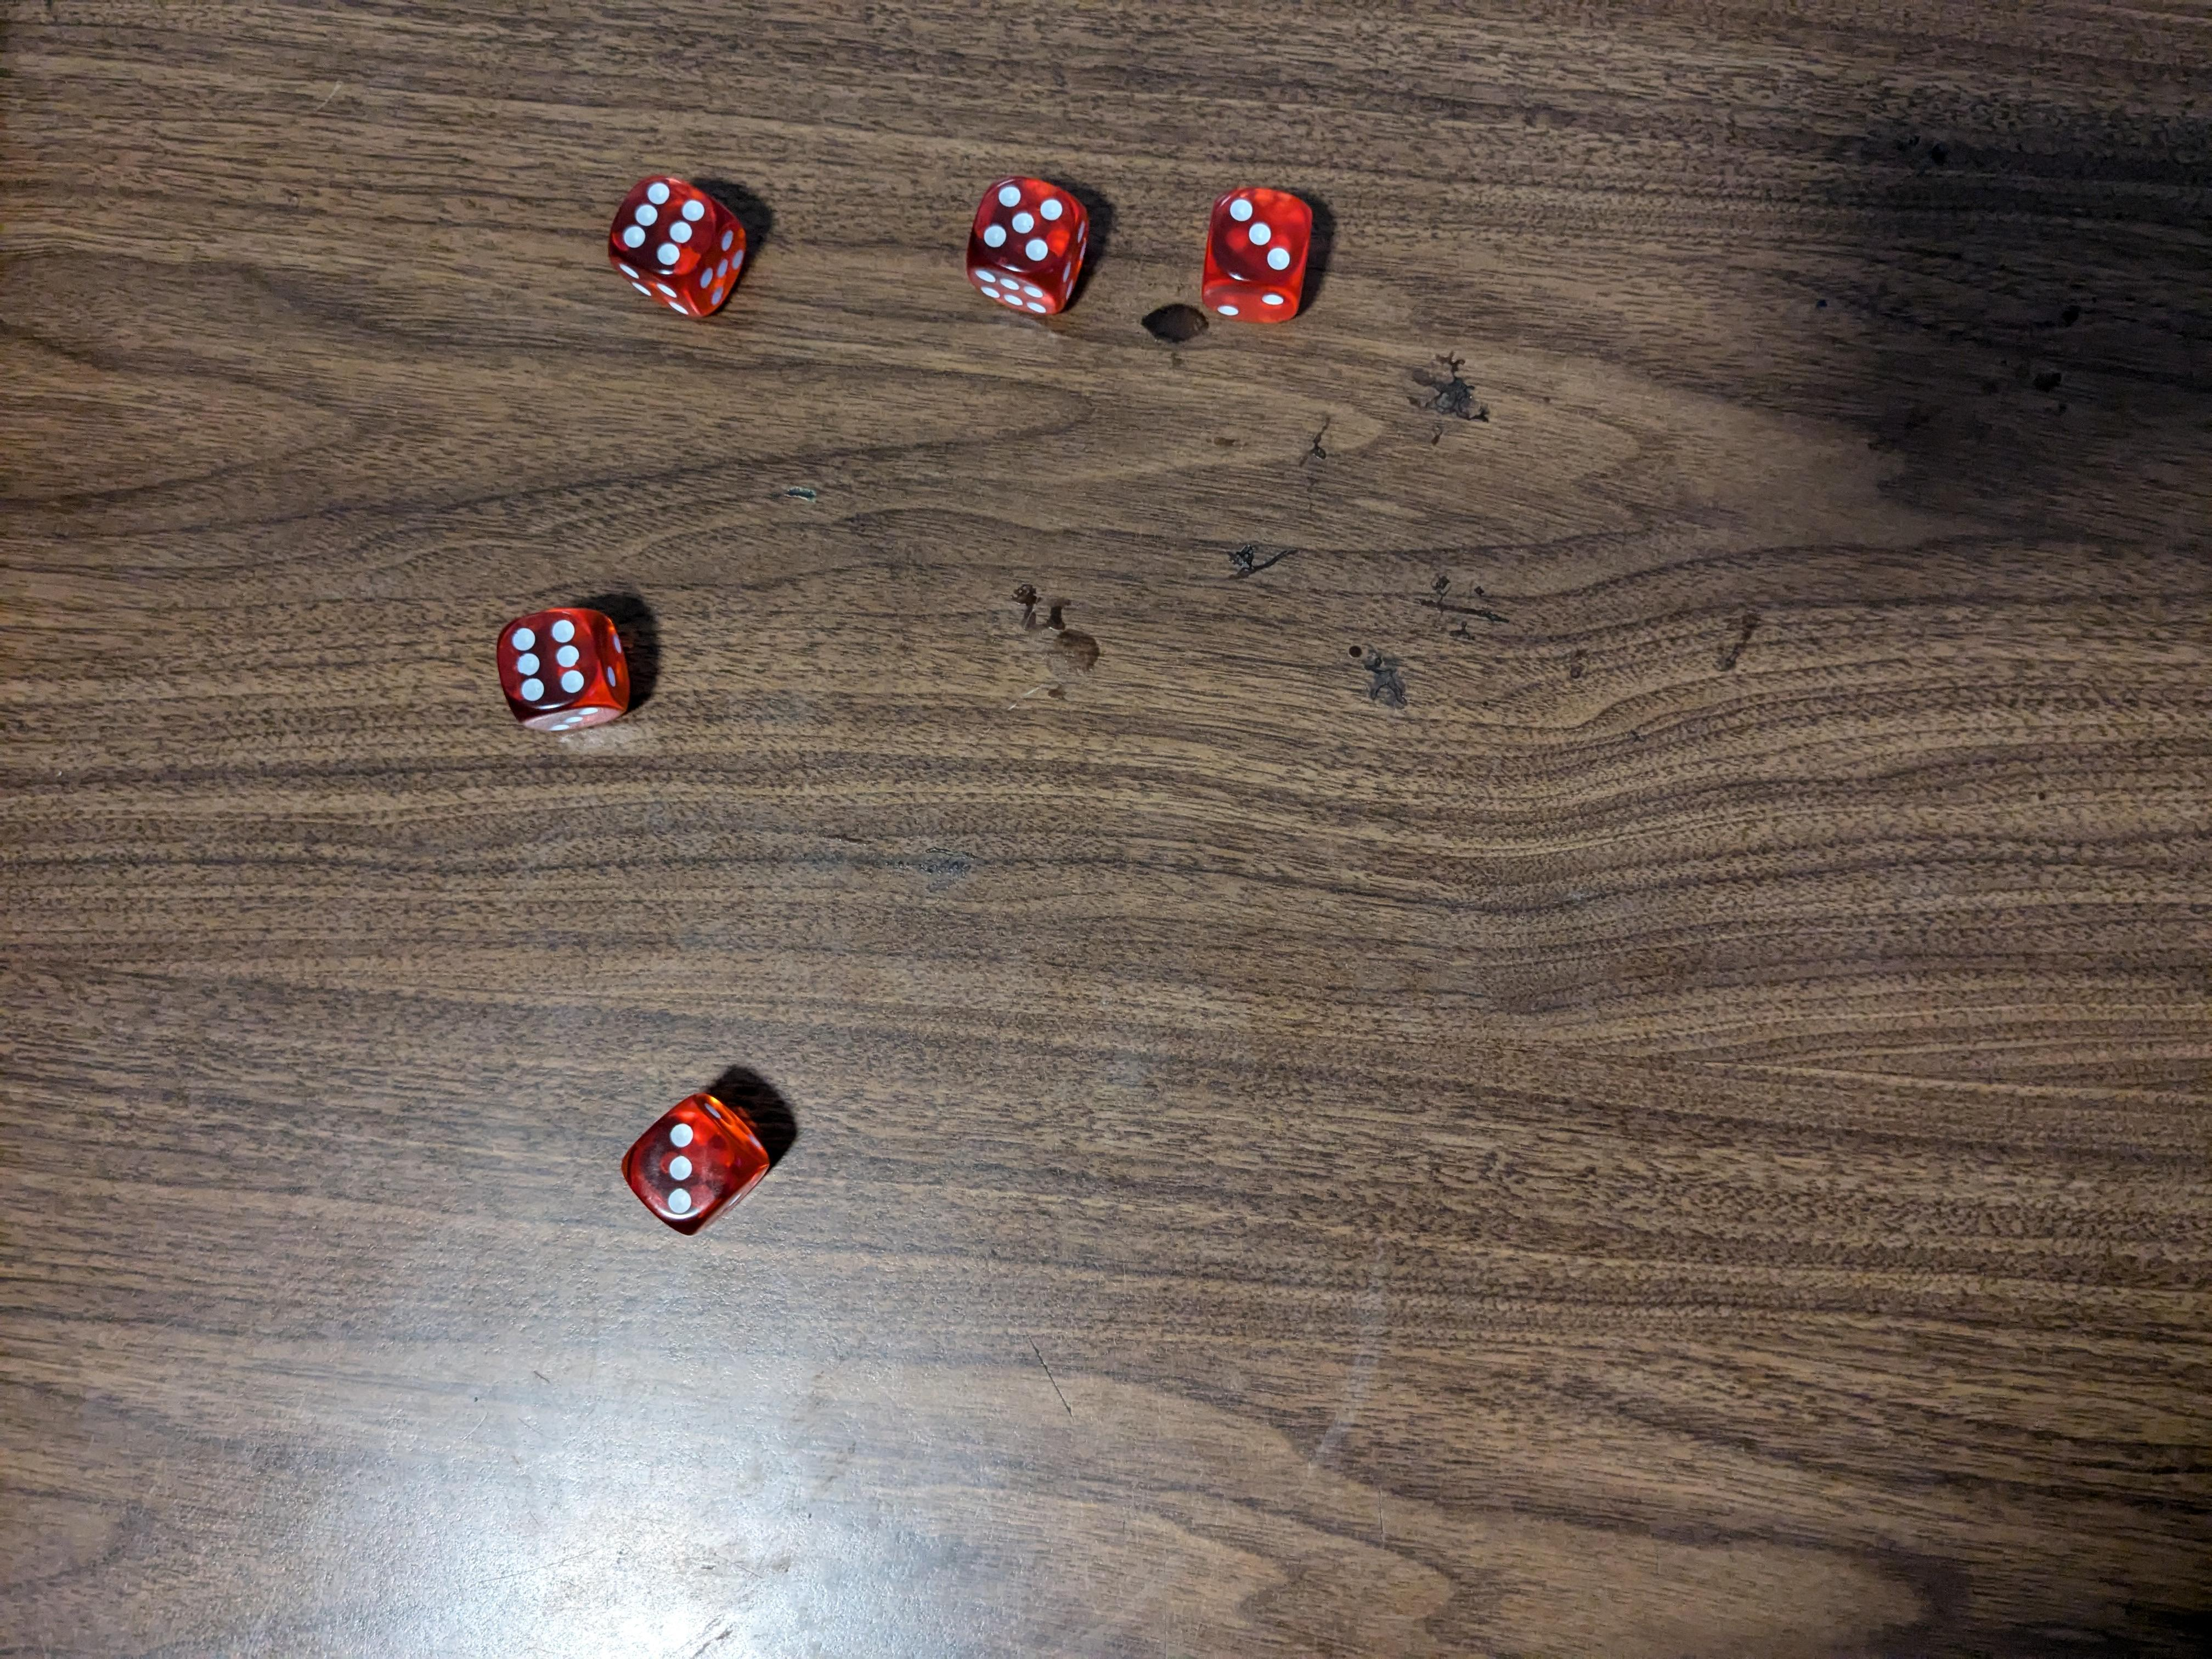five: (965, 173, 1097, 322)
six: (603, 173, 754, 326), (493, 601, 636, 739)
three: (624, 1096, 775, 1239), (1202, 188, 1320, 328)
